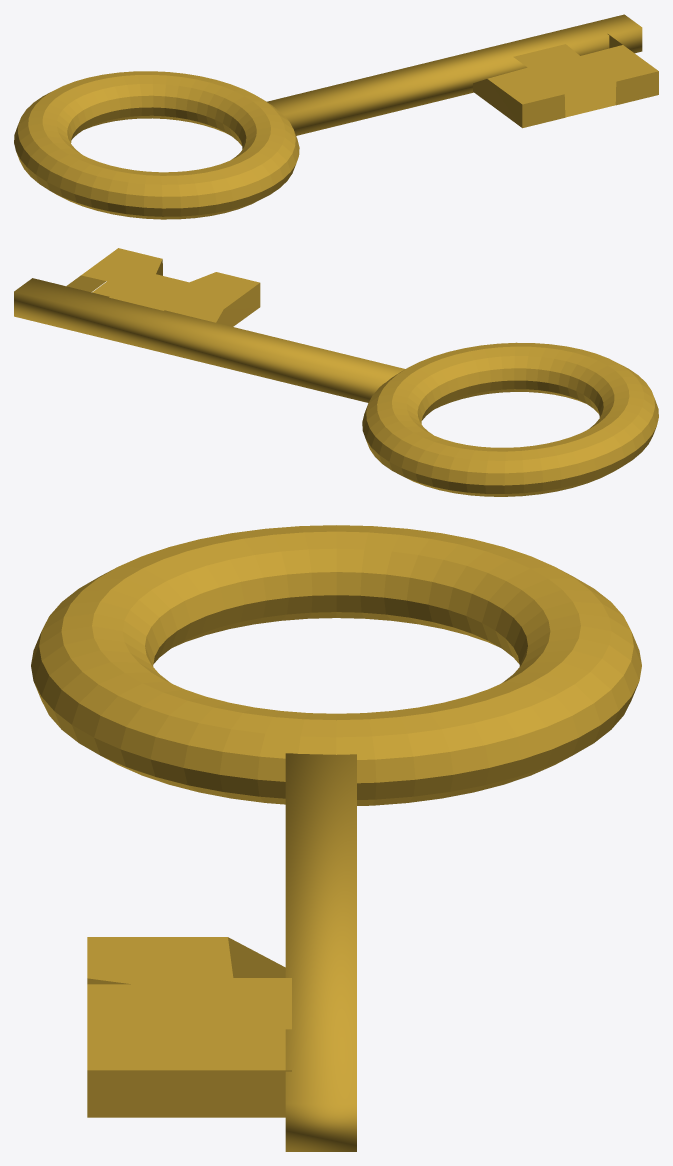
File: key.fbx
3 renders of one model, top to bottom at view 1: azimuth 30°, elevation 25°; view 2: azimuth 150°, elevation 25°; view 3: azimuth 270°, elevation 25°, orthographic. The views are drawn at different scales.
Visible parts, largest first — view 1: Torus; view 2: Torus; view 3: Torus.
Boxes of the visible parts, x1,y1,x2,y2 form: Torus: (14, 14, 658, 219); Torus: (14, 248, 658, 496); Torus: (31, 525, 641, 1151).
Size of the model in its own units: 157 by 10.1 by 69.91.
